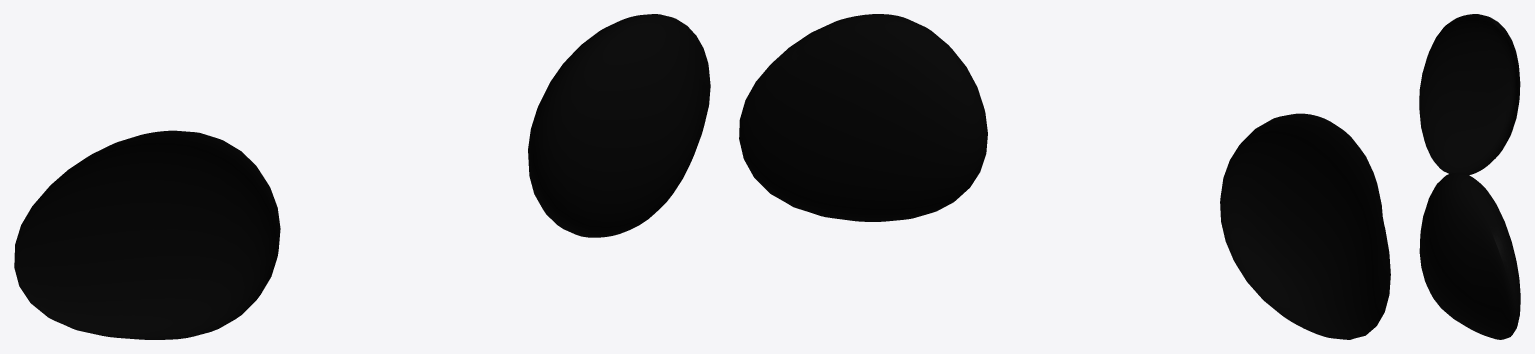
File: Floating.glb
3 views of the same model, side by side, from view 1: azimuth 30°, elevation 25°; view 2: azimuth 150°, elevation 25°; view 3: azimuth 270°, elevation 25° (orthographic). The views are drawn at different scales.
Visible parts, largest first — view 1: Sphere.002; view 2: Sphere.002; view 3: Sphere.002.
Boxes of the visible parts, x1=… form: Sphere.002: x1=14, y1=14, x2=710, y2=339; Sphere.002: x1=739, y1=14, x2=1390, y2=339; Sphere.002: x1=1419, y1=14, x2=1520, y2=339.
Bounding box in the file's own units: 0.3057 × 0.0888 × 0.0557.
1 material, 1 textured.
